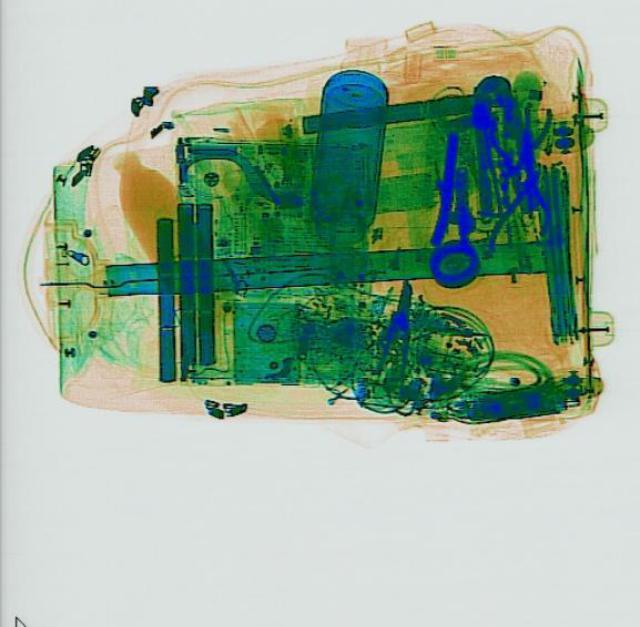Pliers: (483, 167, 557, 263), (369, 279, 421, 396), (462, 98, 520, 189), (512, 102, 554, 162)
